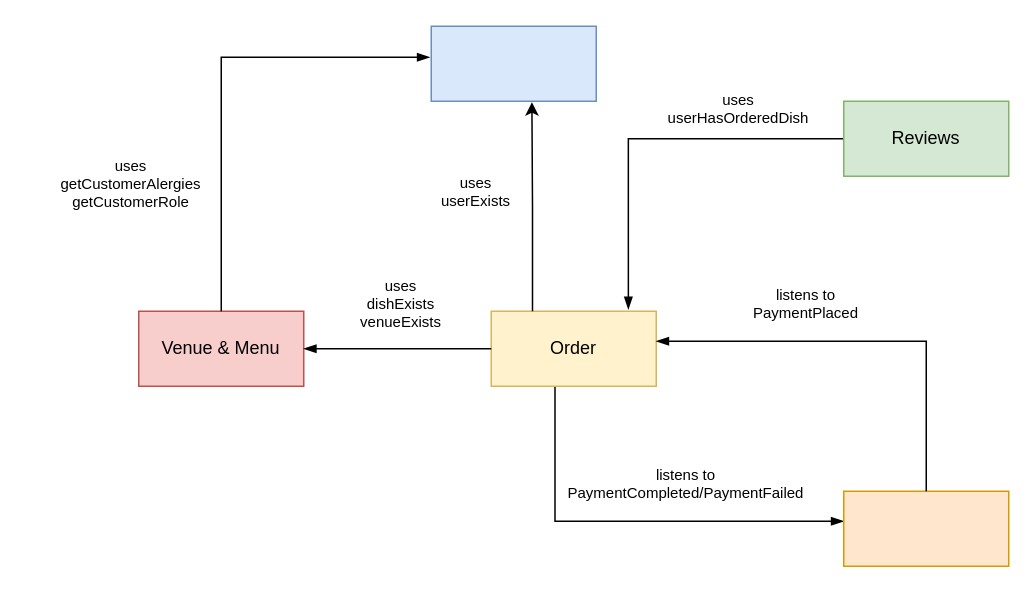
Image size: 1035x593. Some labels were removed from this diagram. The shapes that lost their labels are listed below. From the top down, each one's centre as x and y in pixels, then its label:
At point 513,63: "Identity".
At point 925,528: "Payment".
